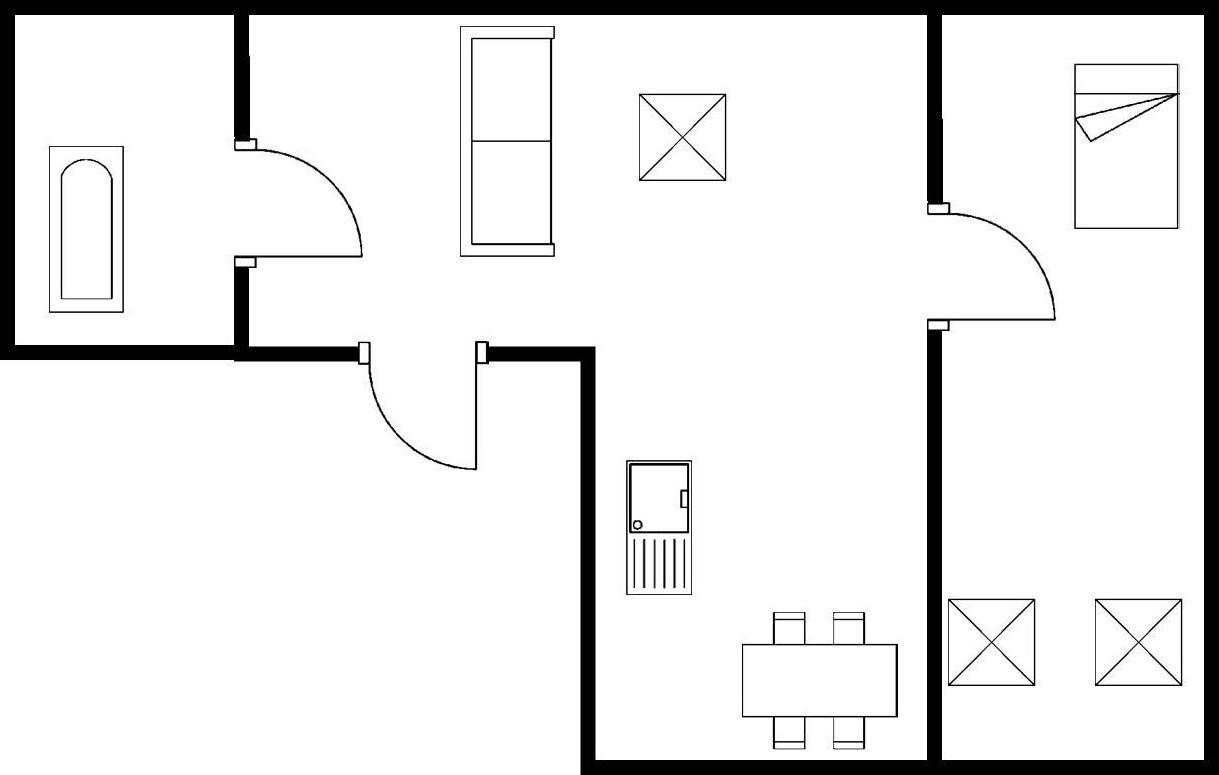bed: (1066, 57, 1183, 233)
dining_table: (737, 606, 904, 753), (944, 592, 1040, 691)
sink: (619, 454, 696, 598)
sofa: (455, 20, 557, 262)
tub: (44, 140, 127, 316)
